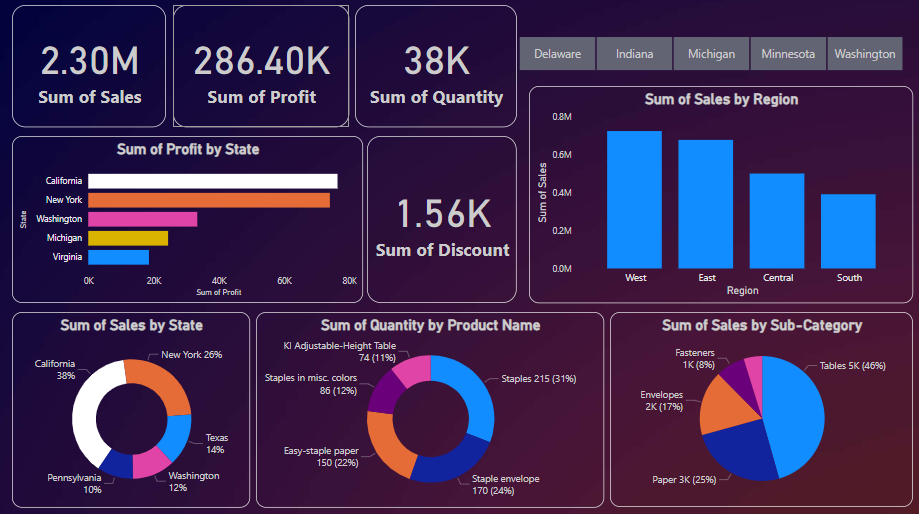

The dashboard page shown, as its layout file describes it:
{"tool":"powerbi","page":{"name":"Page 1","canvas":[1280,720],"ordinal":0},"visuals":[{"type":"columnChart","fields":{"Y":["Sum(Orders.Sales)"],"Category":["Orders.Region"]},"box":[736.7,123.7,533.7,301.6],"z":0},{"type":"barChart","fields":{"Category":["Orders.State"],"Y":["Sum(Orders.Profit)"]},"box":[18.1,193.2,487.9,232.1],"z":1000},{"type":"donutChart","fields":{"Y":["Sum(Orders.Quantity)"],"Category":["Orders.Product Name"]},"box":[357.2,437.8,483.7,272.4],"z":2000},{"type":"pieChart","fields":{"Category":["Orders.Sub-Category"],"Y":["Sum(Orders.Sales)"]},"box":[849.3,437.8,421.2,271],"z":3000},{"type":"card","fields":{"Values":["Sum(Orders.Sales)"]},"box":[18.1,11.1,214.1,169.6],"z":4000},{"type":"card","fields":{"Values":["Sum(Orders.Profit)"]},"box":[241.9,11.1,244.6,169.6],"z":5000},{"type":"card","fields":{"Values":["Sum(Orders.Quantity)"]},"box":[494.8,11.1,225.2,169.6],"z":6000},{"type":"donutChart","fields":{"Category":["Orders.State"],"Y":["Sum(Orders.Sales)"]},"box":[18.1,437.8,330.8,272.4],"z":7000},{"type":"slicer","fields":{"Values":["Orders.State"]},"box":[697.8,48.6,582.4,59.8],"z":8000},{"type":"card","fields":{"Values":["Sum(Orders.Discount)"]},"box":[511.5,193.2,208.5,232.1],"z":8001}]}

Visuals, with their boxes in screenshot pixels (x1, y1, x2, y2), scaled from the page's 1280x720 canvas onto the 919x514 screenshot:
columnChart - Sum(Orders.Sales) x Orders.Region: bbox(529, 88, 912, 304)
barChart - Orders.State x Sum(Orders.Profit): bbox(13, 138, 363, 304)
donutChart - Sum(Orders.Quantity) x Orders.Product Name: bbox(256, 313, 604, 507)
pieChart - Orders.Sub-Category x Sum(Orders.Sales): bbox(610, 313, 912, 506)
card - Sum(Orders.Sales): bbox(13, 8, 167, 129)
card - Sum(Orders.Profit): bbox(174, 8, 349, 129)
card - Sum(Orders.Quantity): bbox(355, 8, 517, 129)
donutChart - Orders.State x Sum(Orders.Sales): bbox(13, 313, 250, 507)
slicer - Orders.State: bbox(501, 35, 918, 77)
card - Sum(Orders.Discount): bbox(367, 138, 517, 304)
